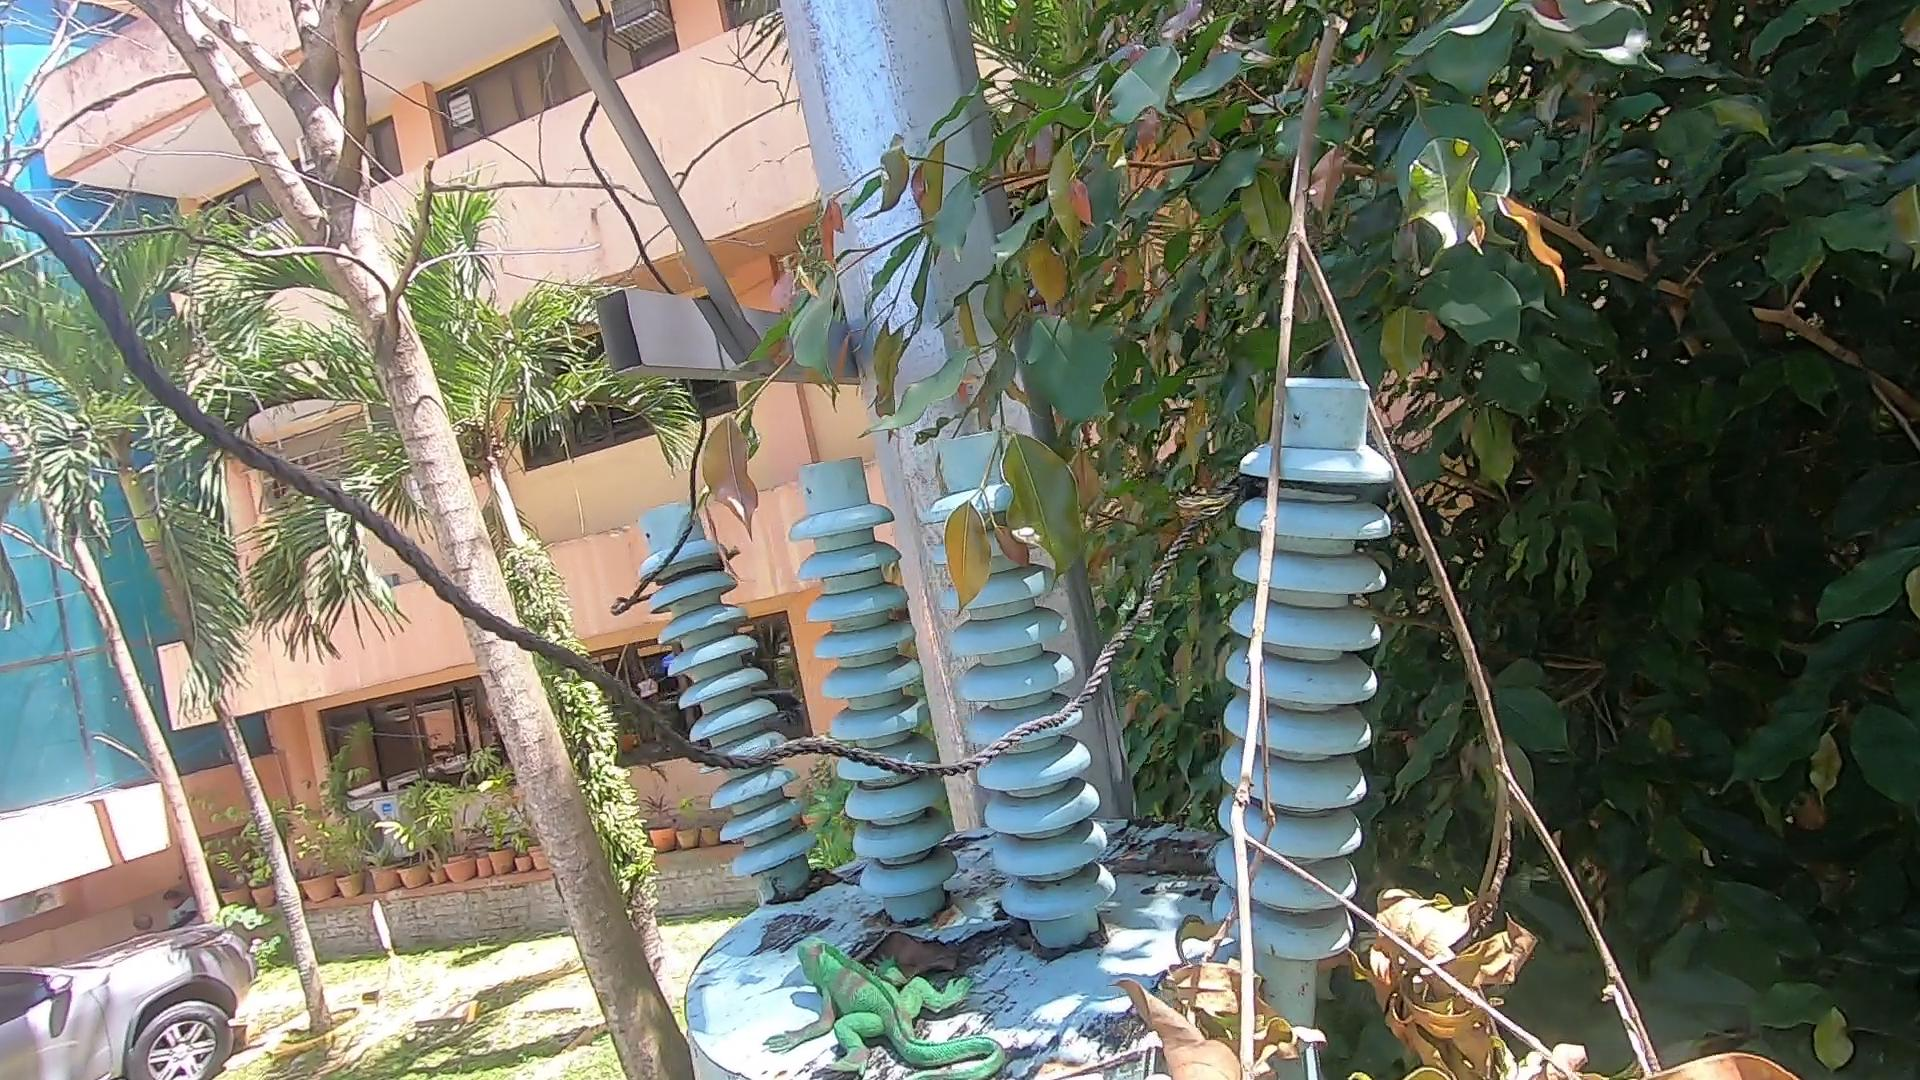branch with leaves: (1133, 11, 1818, 1080)
leaf: (856, 924, 971, 997), (793, 862, 843, 891)
